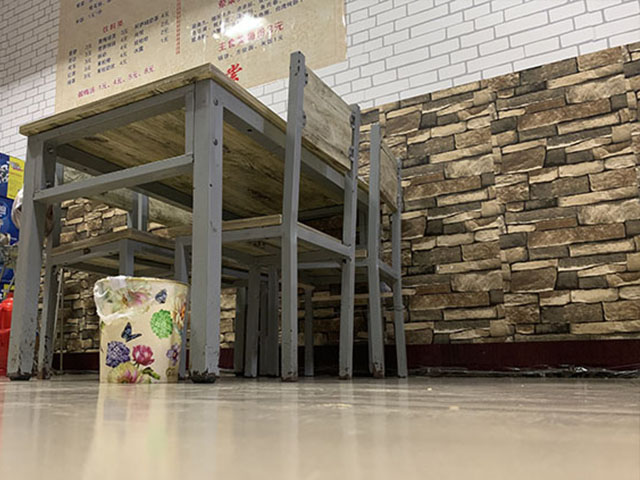stool: (166, 47, 367, 383), (242, 120, 410, 382), (36, 203, 187, 382)
table: (4, 64, 382, 381)
trashcan: (90, 274, 192, 386)
